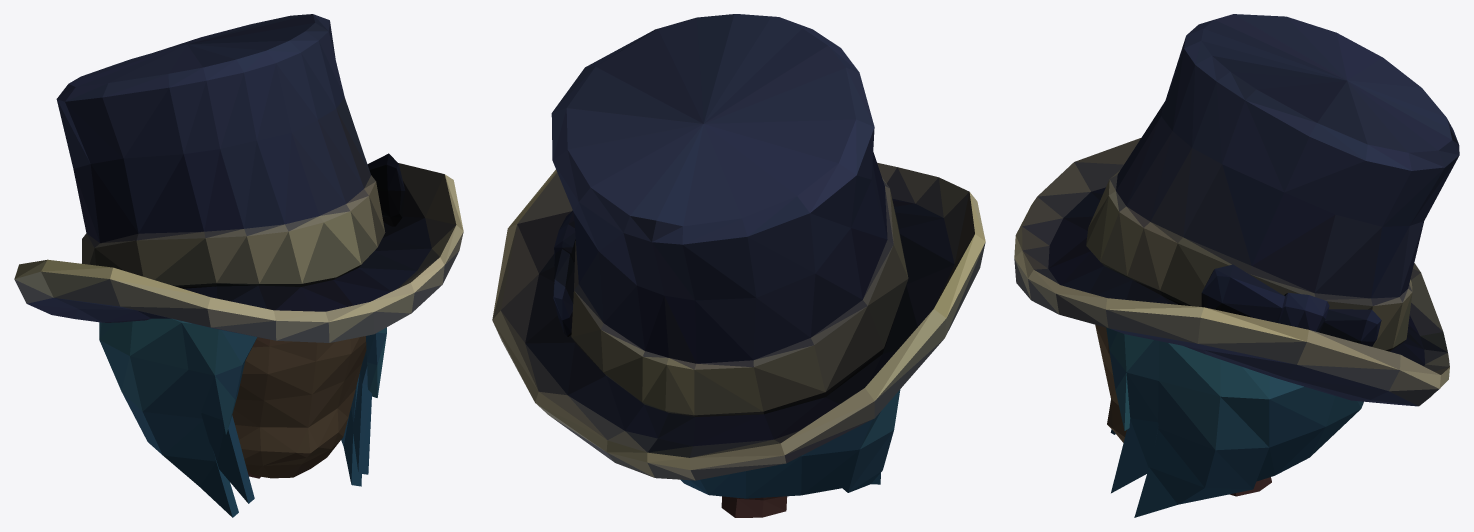
The model's file is helm_darkskin_bob_blue_tophat.fbx.
3 renders of one model, left to right at view 1: azimuth 30°, elevation 25°; view 2: azimuth 150°, elevation 25°; view 3: azimuth 270°, elevation 25°, orthographic. The views are drawn at different scales.
Visible parts, largest first — view 1: helm_darkskin_bob_blue_tophat; view 2: helm_darkskin_bob_blue_tophat; view 3: helm_darkskin_bob_blue_tophat.
Part boxes in pixels (left/top/right/bottom): helm_darkskin_bob_blue_tophat: left=14, top=14, right=463, bottom=517; helm_darkskin_bob_blue_tophat: left=492, top=14, right=985, bottom=517; helm_darkskin_bob_blue_tophat: left=1014, top=14, right=1459, bottom=517.
Size of the model in its own units: 1.68 by 1.83 by 1.64.
